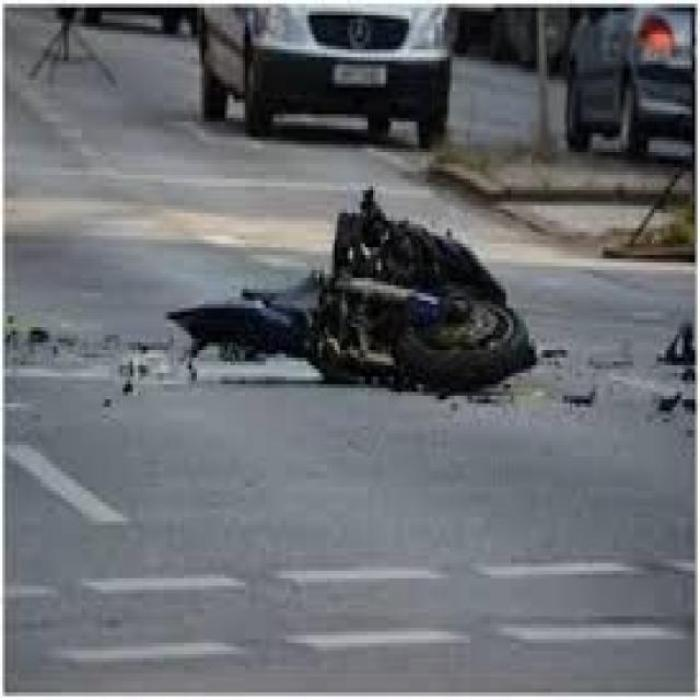Accident: (202, 167, 550, 446)
